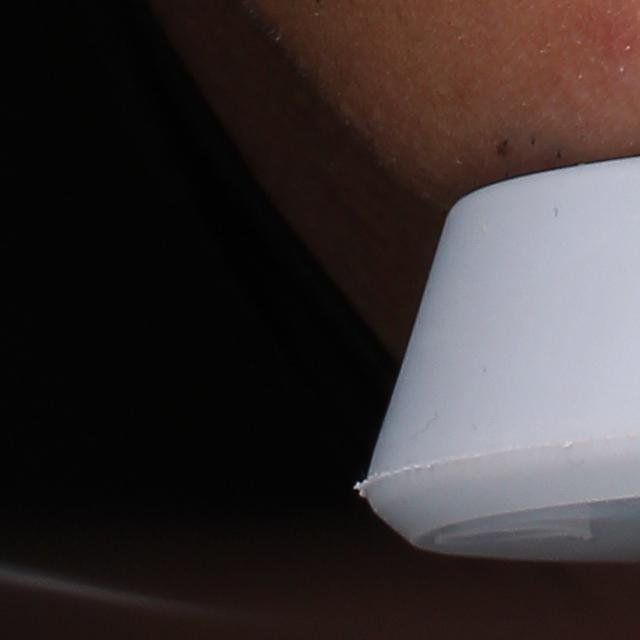nevus: (493, 133, 515, 158)
